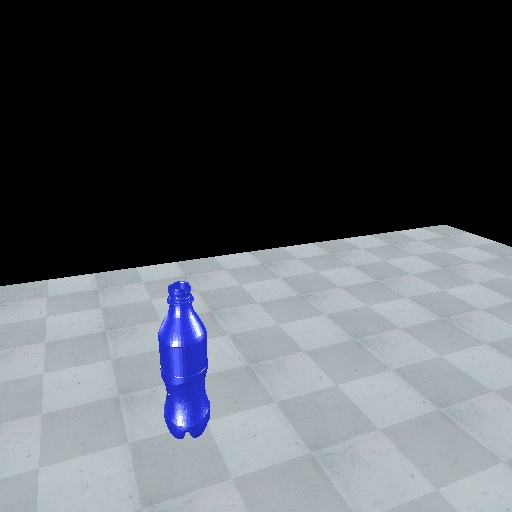bottle: (155, 279, 214, 441)
